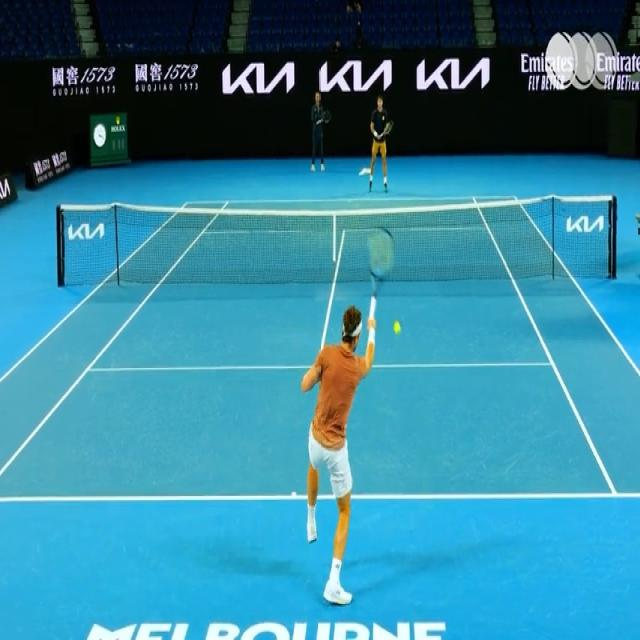forehand-stroke: (298, 226, 394, 604)
